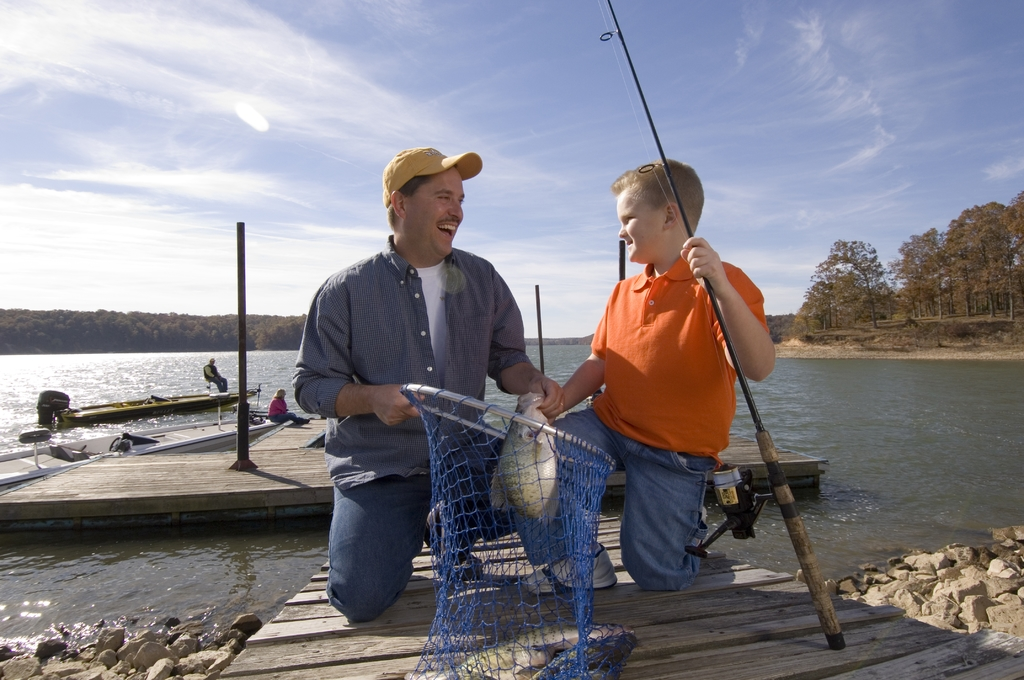Person: (518, 156, 777, 594), (267, 388, 312, 426)
